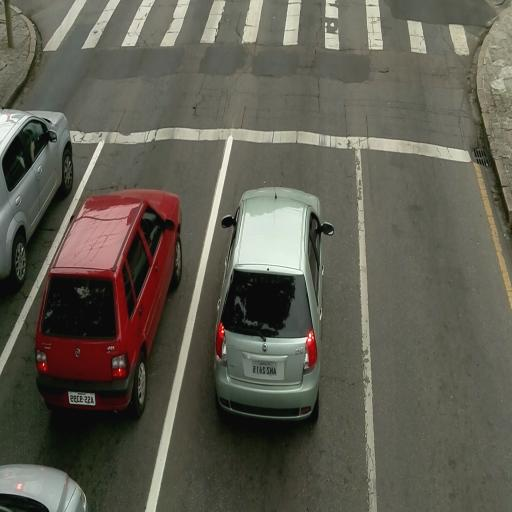car: (34, 185, 184, 425), (212, 188, 331, 424), (0, 109, 74, 288), (1, 463, 90, 511)
